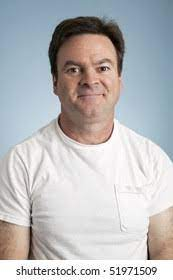s.white: (98, 74, 121, 106)
